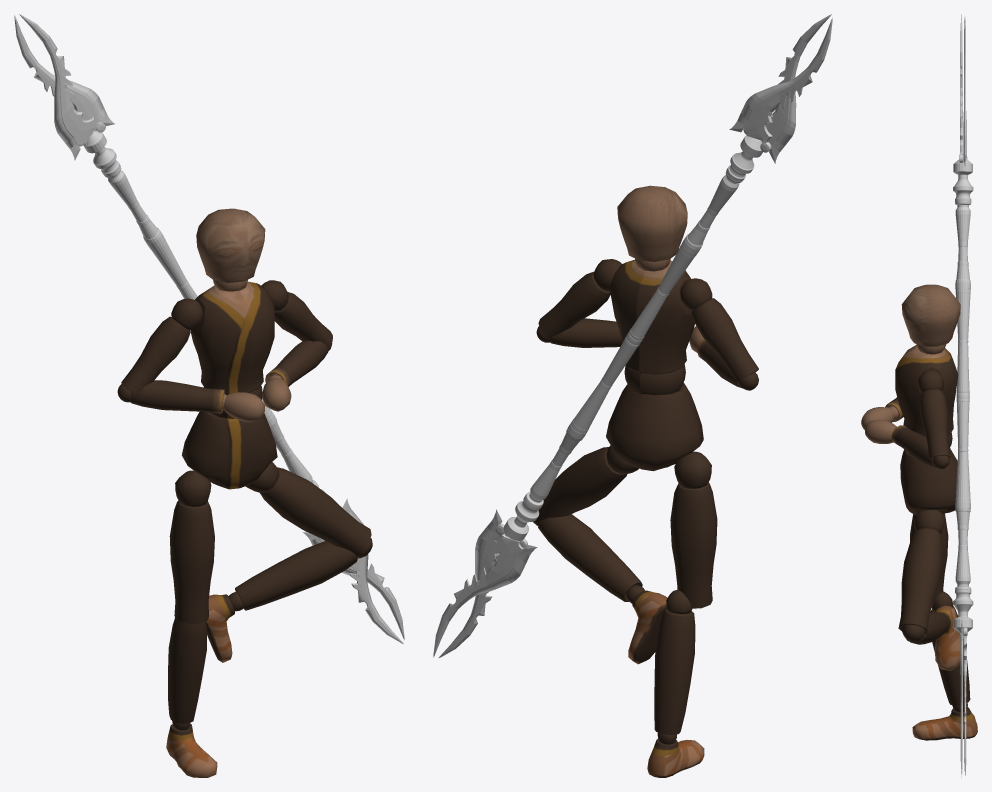
Rendered from ManPosed.fbx.
3 views of the same model, side by side, from view 1: azimuth 30°, elevation 25°; view 2: azimuth 150°, elevation 25°; view 3: azimuth 270°, elevation 25° (orthographic). The views are drawn at different scales.
Visible parts, largest first — view 1: polySurface9, polySurface87, polySurface95, polySurface88, Geo_Thigh_L, polySurface86, Geo_Calf_L, polySurface98, polySurface89, polySurface90, polySurface92, polySurface99 (+4 smaller); view 2: polySurface9, polySurface87, polySurface88, polySurface95, polySurface98, polySurface86, Geo_Calf_L, Geo_Thigh_L, polySurface89, polySurface92, polySurface75, polySurface99 (+2 smaller); view 3: polySurface9, Geo_Thigh_L, polySurface86, polySurface87, polySurface88, polySurface92, polySurface99, polySurface98, polySurface75, polySurface93, Geo_Calf_L, polySurface94 (+2 smaller).
Boxes of the visible parts, bbox=[...] form: polySurface9: bbox=[14, 14, 404, 643]; polySurface87: bbox=[190, 281, 274, 418]; polySurface95: bbox=[169, 470, 214, 624]; polySurface88: bbox=[182, 411, 277, 489]; Geo_Thigh_L: bbox=[245, 462, 371, 555]; polySurface86: bbox=[196, 208, 265, 291]; Geo_Calf_L: bbox=[235, 538, 372, 610]; polySurface98: bbox=[168, 617, 207, 723]; polySurface89: bbox=[121, 298, 202, 395]; polySurface90: bbox=[117, 380, 224, 413]; polySurface92: bbox=[261, 280, 332, 347]; polySurface99: bbox=[166, 720, 217, 777]; polySurface9: bbox=[433, 14, 832, 658]; polySurface87: bbox=[609, 259, 694, 395]; polySurface88: bbox=[606, 382, 703, 471]; polySurface95: bbox=[670, 451, 717, 608]; polySurface98: bbox=[654, 589, 695, 735]; polySurface86: bbox=[617, 185, 687, 271]; Geo_Calf_L: bbox=[533, 514, 642, 601]; Geo_Thigh_L: bbox=[535, 445, 638, 523]; polySurface89: bbox=[680, 278, 758, 382]; polySurface92: bbox=[538, 259, 621, 338]; polySurface75: bbox=[626, 585, 667, 664]; polySurface99: bbox=[647, 733, 704, 777]; polySurface9: bbox=[953, 14, 973, 777]; Geo_Thigh_L: bbox=[898, 510, 945, 633]; polySurface86: bbox=[901, 284, 960, 354]; polySurface87: bbox=[895, 345, 958, 455]; polySurface88: bbox=[900, 448, 957, 514]; polySurface92: bbox=[917, 369, 950, 459]; polySurface99: bbox=[912, 703, 977, 740]; polySurface98: bbox=[930, 591, 970, 705]; polySurface75: bbox=[935, 605, 960, 670]; polySurface93: bbox=[891, 425, 949, 469]; Geo_Calf_L: bbox=[902, 611, 949, 644]; polySurface94: bbox=[865, 419, 896, 443].
Size of the model in its own units: 127 by 245 by 39.46.
